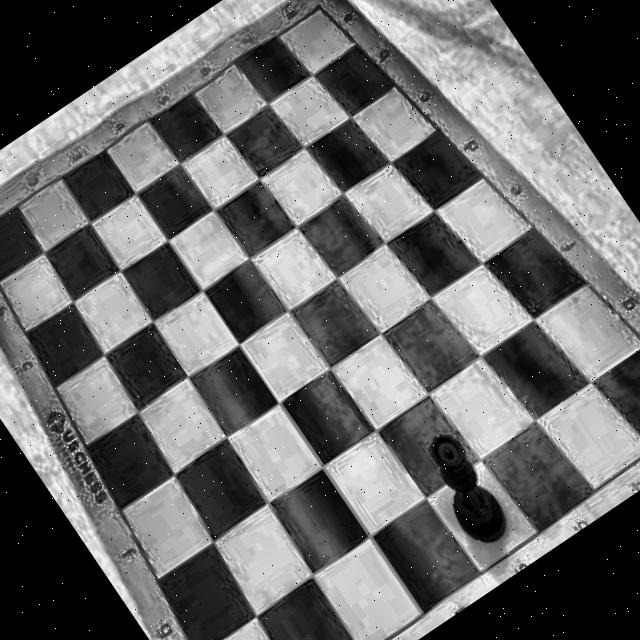black-queen: (412, 426, 520, 554)
